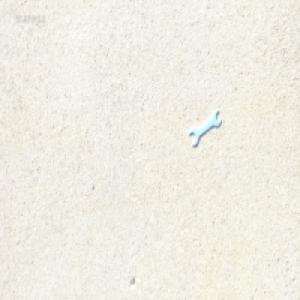Wrench: (189, 111, 220, 147)
